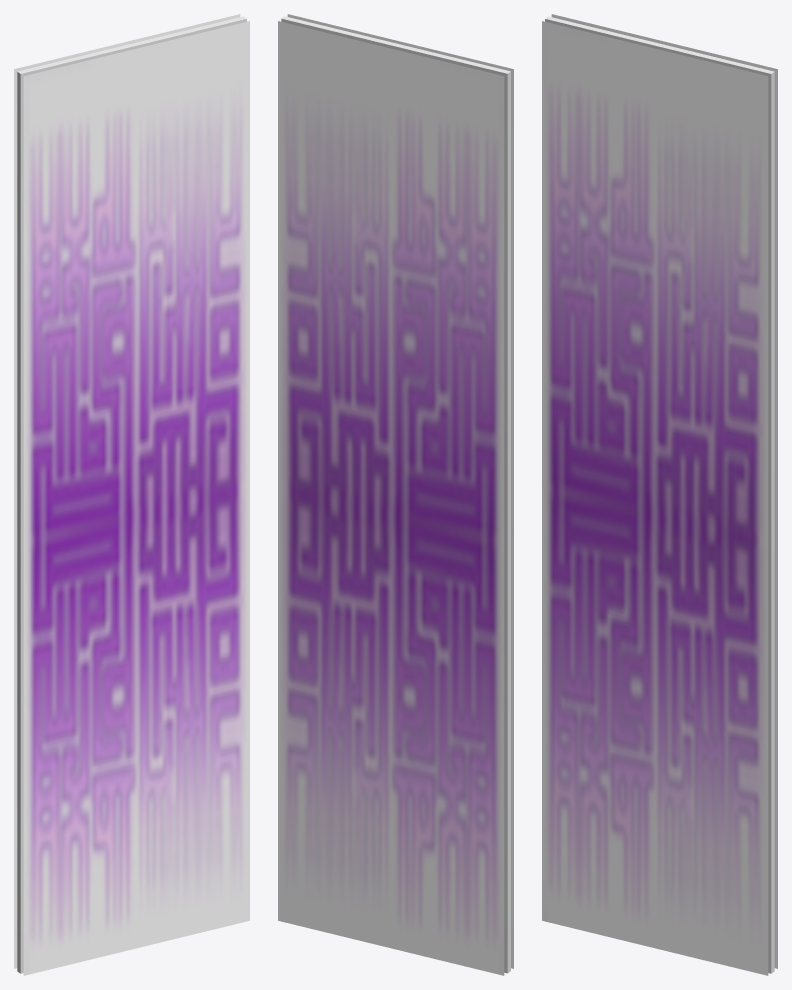
The model's file is a_SWGubarrier.glb.
The picture shows the model from 3 angles, left to right: view 1: azimuth 30°, elevation 25°; view 2: azimuth 150°, elevation 25°; view 3: azimuth 330°, elevation 25°; orthographic projection.
Parts seen in each view (by area): view 1: a_SWGubarrier; view 2: a_SWGubarrier; view 3: a_SWGubarrier.
Part boxes in pixels (box(x1,y1,x2,y2)): a_SWGubarrier: box(14, 14, 249, 975); a_SWGubarrier: box(278, 14, 513, 975); a_SWGubarrier: box(542, 14, 777, 975).
Bounding box in the file's own units: 1.05 × 4 × 0.0772.
3 materials, 3 textured.
